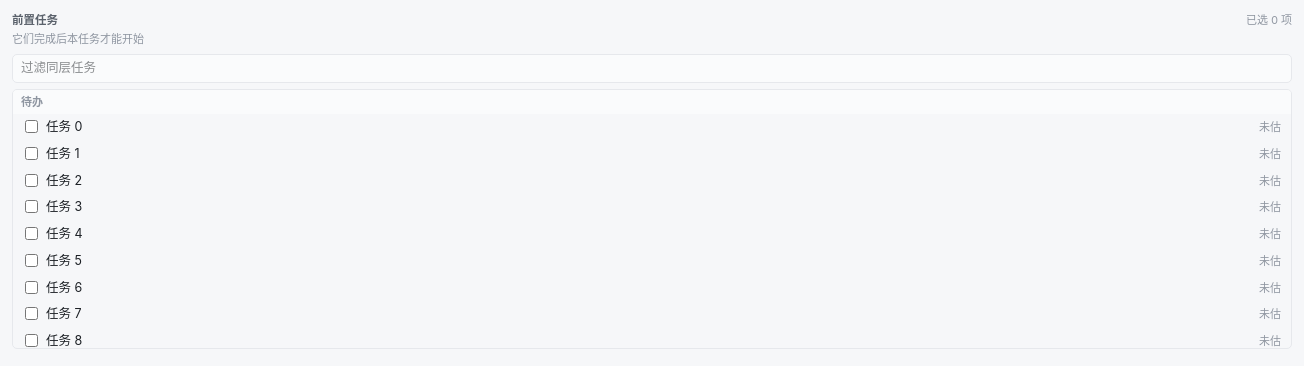
Scenario: DependencySection › 过滤没有命中时给出空状态文案
The width and height of the screenshot is (1304, 366).
Type "不存在的关键词" into the field labelled "过滤同层任务" at (652, 68), box [12, 54, 1292, 83]
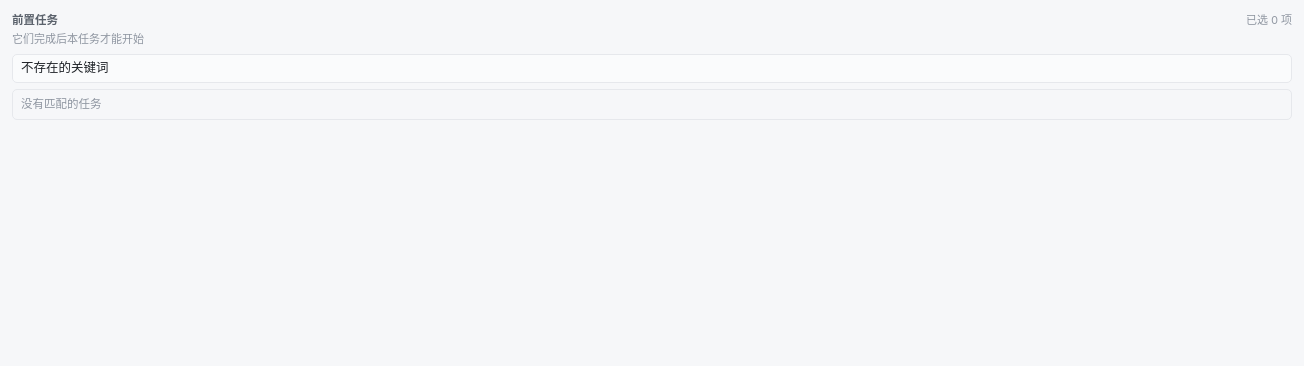
Now the text "没有匹配的任务" is shown, box [21, 96, 102, 110]
